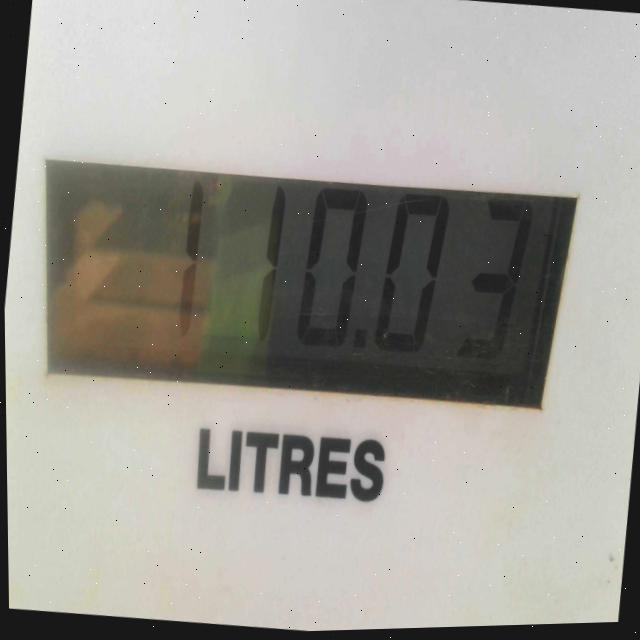.: (344, 321, 377, 369)
0: (364, 189, 455, 386), (282, 171, 370, 368)
1: (152, 165, 231, 371), (233, 180, 303, 370)
3: (450, 193, 538, 384)
